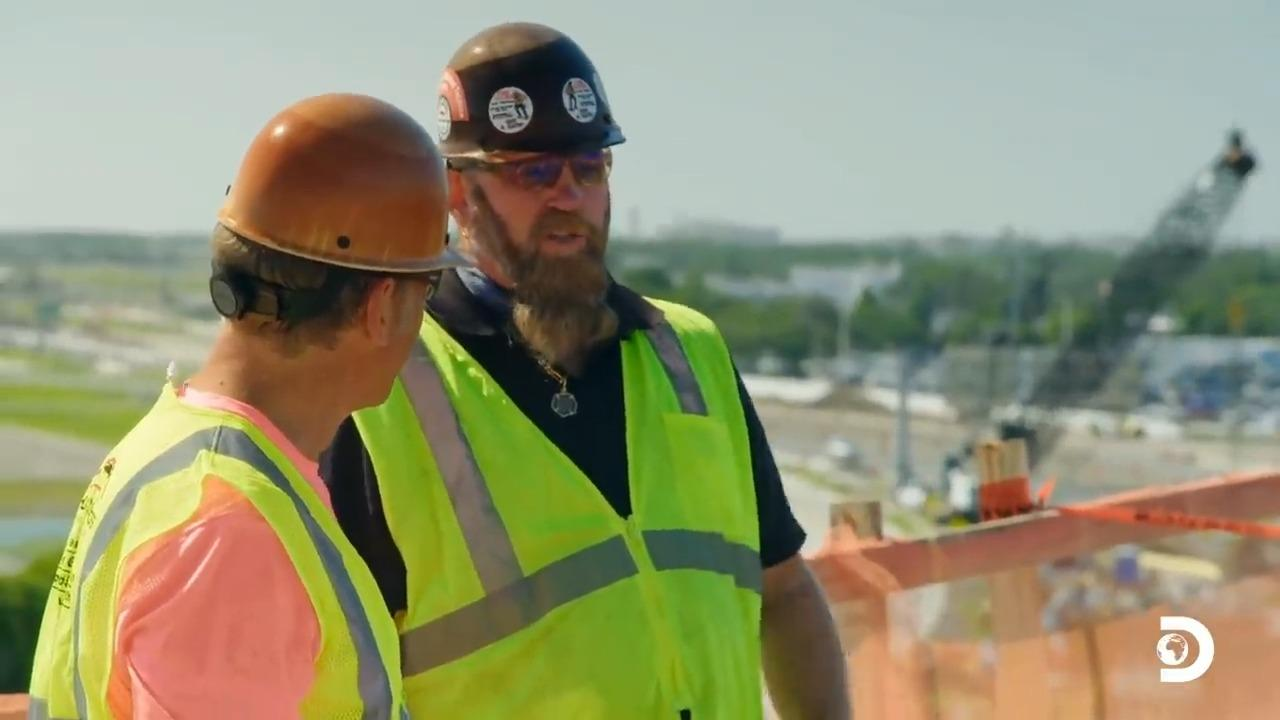Helmet: (215, 90, 478, 274), (434, 20, 626, 166)
Person: (316, 19, 853, 719), (26, 90, 477, 719)
Safety Vest: (398, 368, 757, 709), (45, 432, 410, 720)
